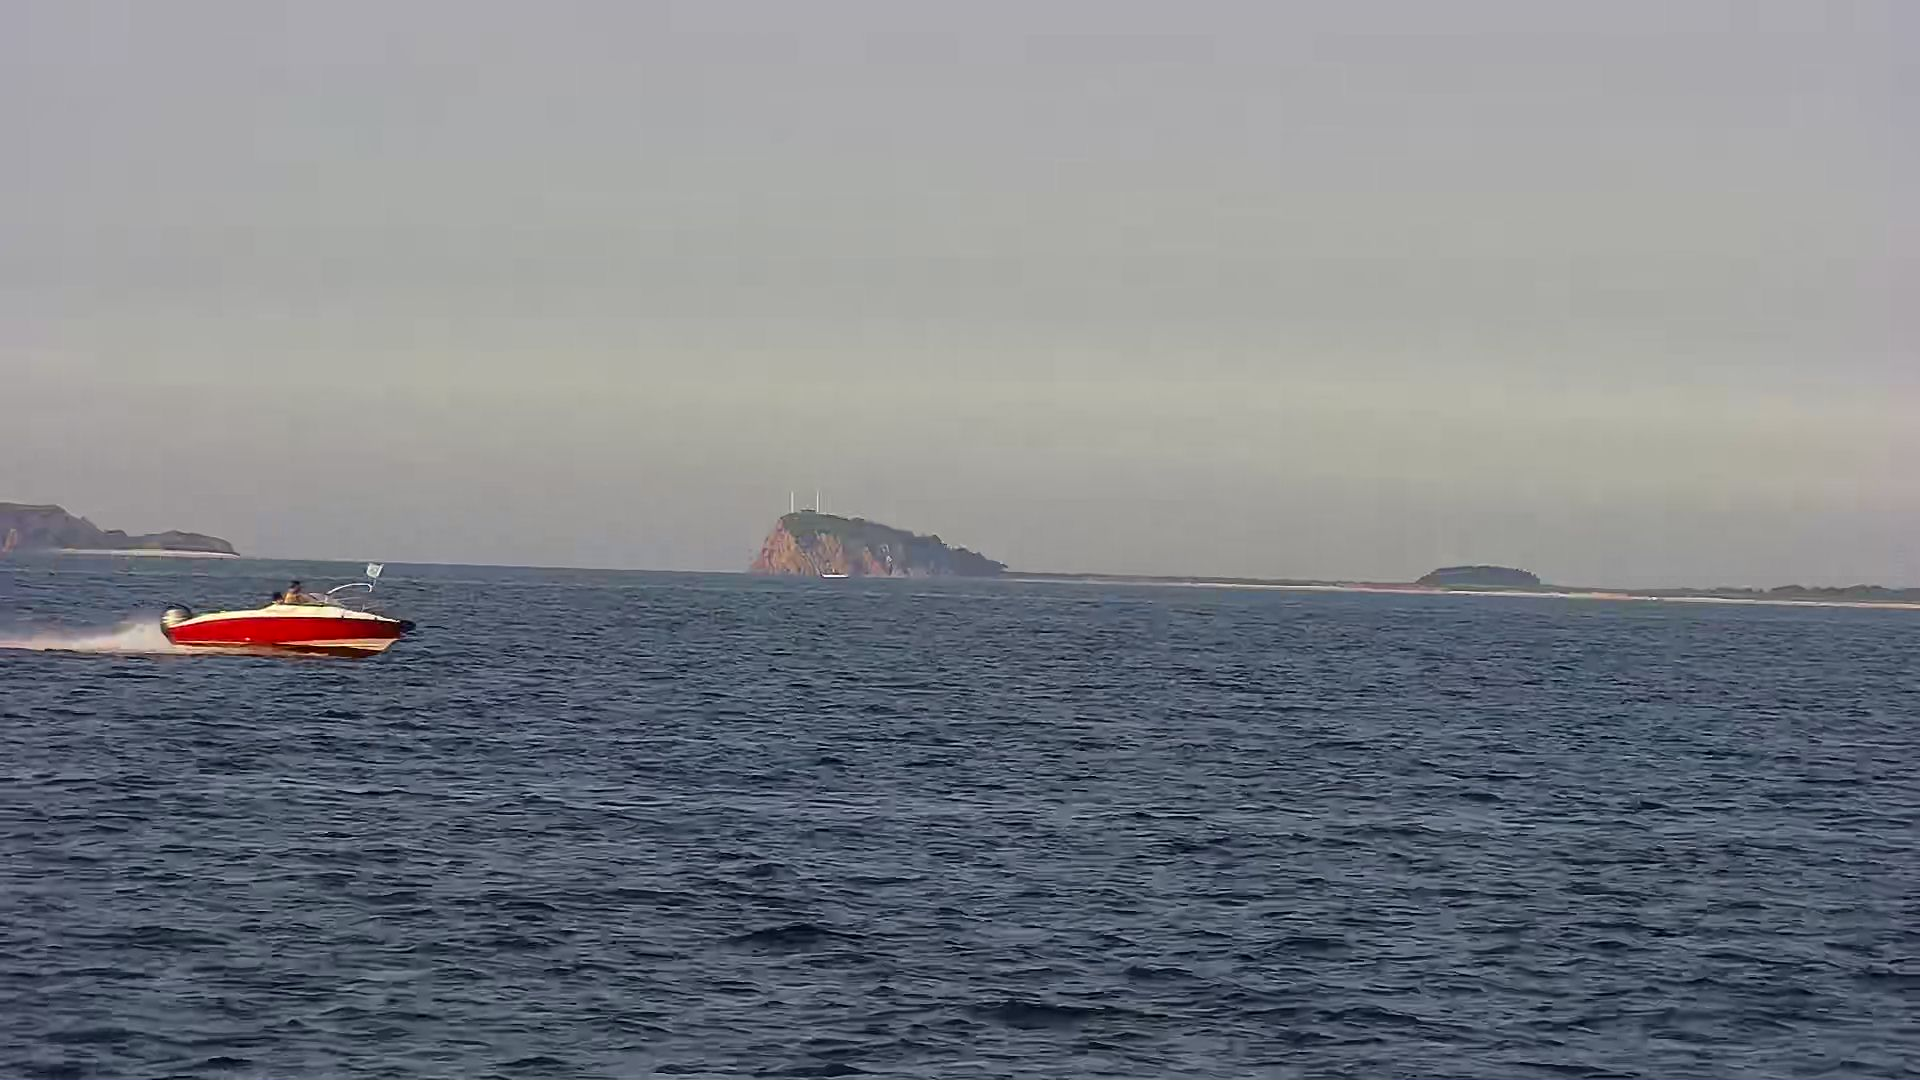boat: (135, 530, 421, 669)
rock: (746, 487, 1021, 587), (4, 488, 225, 575), (1408, 549, 1553, 597)
